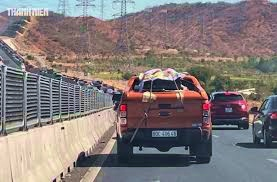Bien-so: (143, 128, 170, 138)
